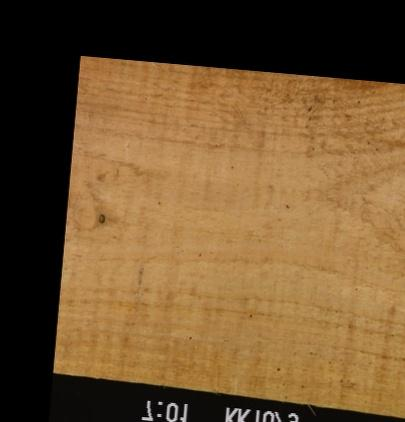dry_knot: (95, 212, 104, 225)
